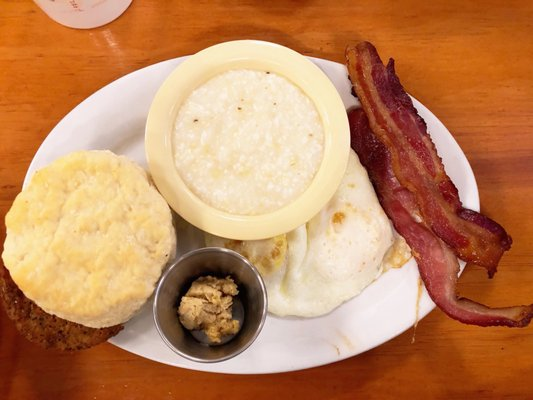pizza: (30, 0, 134, 30)
soup: (0, 149, 177, 352)
sushi: (144, 41, 352, 242), (152, 248, 269, 364)
